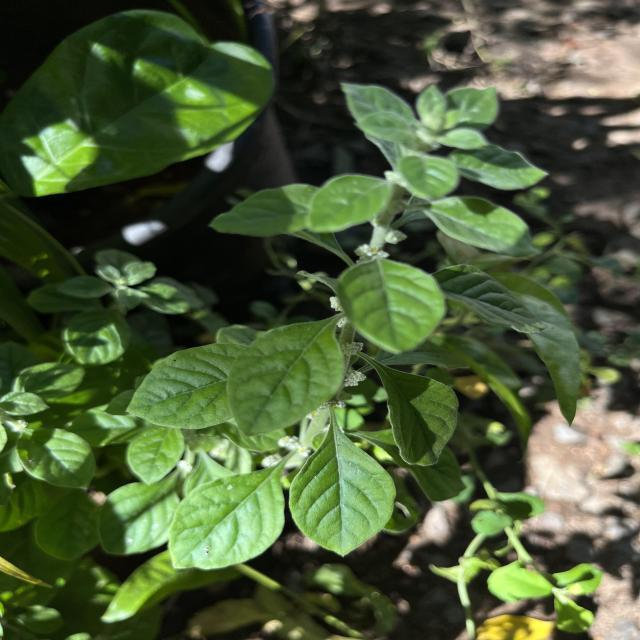Aerva lanata: (284, 426, 400, 560), (123, 341, 250, 431), (373, 358, 461, 468)
